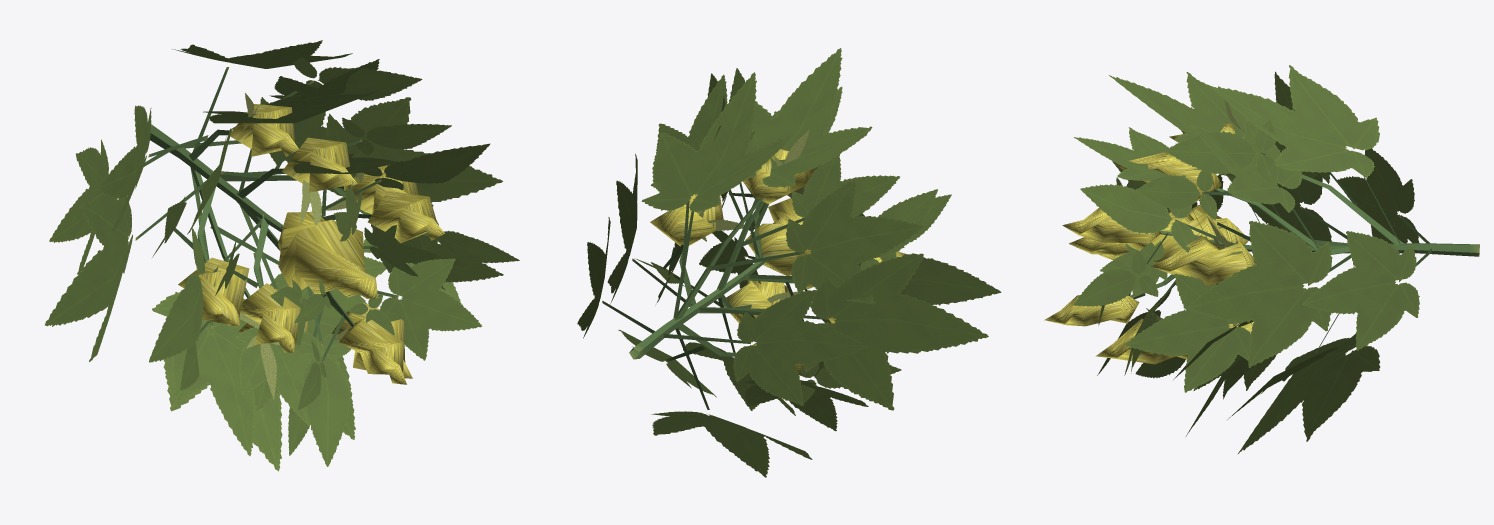
File: p_gold_afghan_flowering_c0_cards.obj
The picture shows the model from 3 angles, left to right: view 1: azimuth 30°, elevation 25°; view 2: azimuth 150°, elevation 25°; view 3: azimuth 270°, elevation 25°; orthographic projection. The views are drawn at different scales.
Bounding box in the file's own units: 1.42 × 1.36 × 1.24.
1 material, 1 textured.
